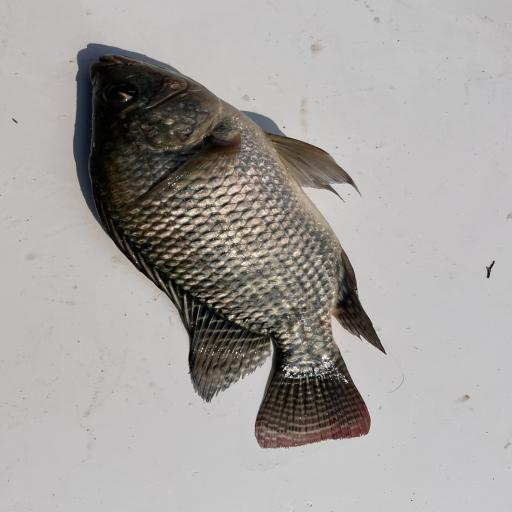Tilapia: (88, 54, 387, 450)
